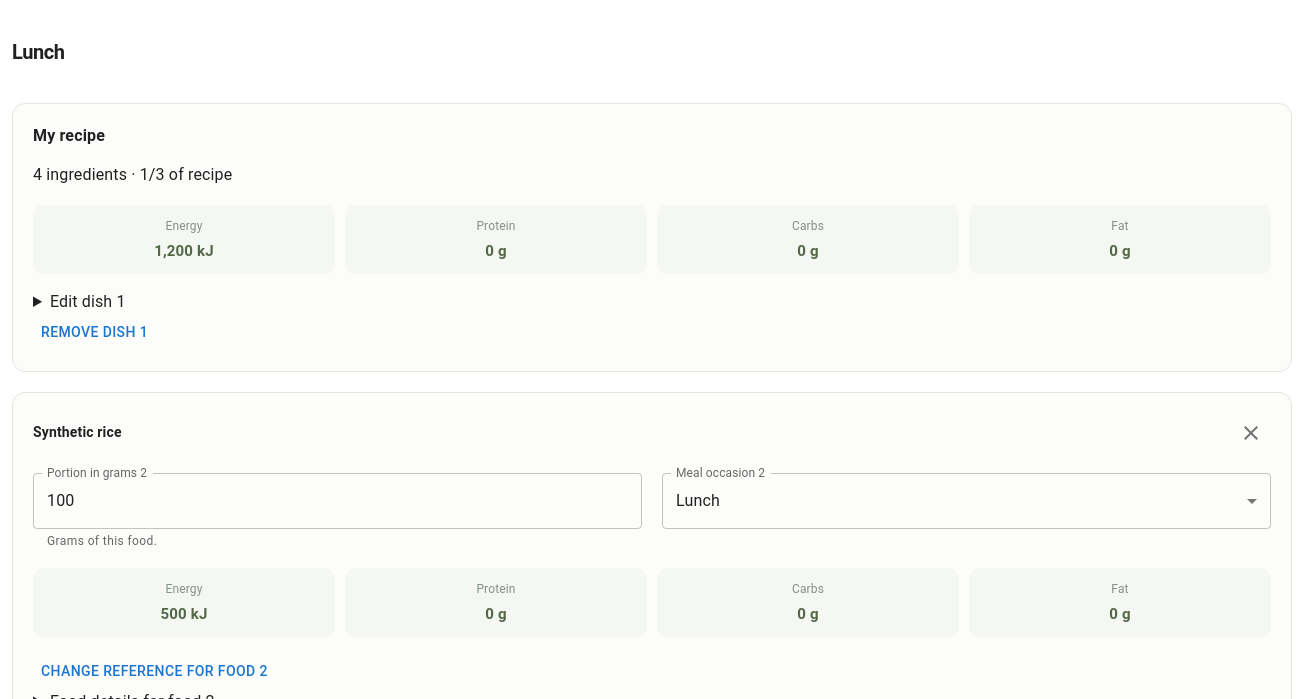
Test case: UX-F08 complete root review › keeps a newer complete preview when an older grams request finishes late
Replace the text in the field labelled "Portion in grams 2" with "200" at {"x": 338, "y": 501}, box [33,473,642,529]
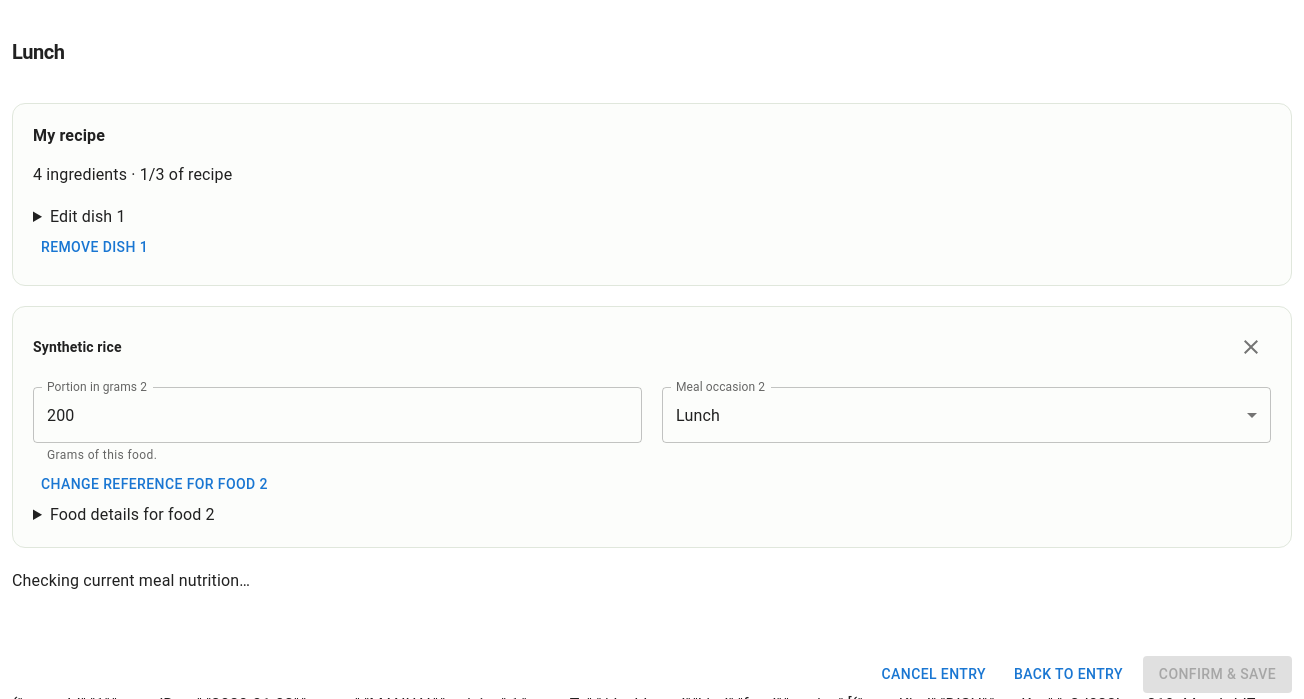
Check: the button "Confirm & save" is disabled, box [1143,656,1292,693]
Replace the text in the field labelled "Portion in grams 2" with "300" at {"x": 338, "y": 415}, box [33,387,642,443]
(page scrolled)
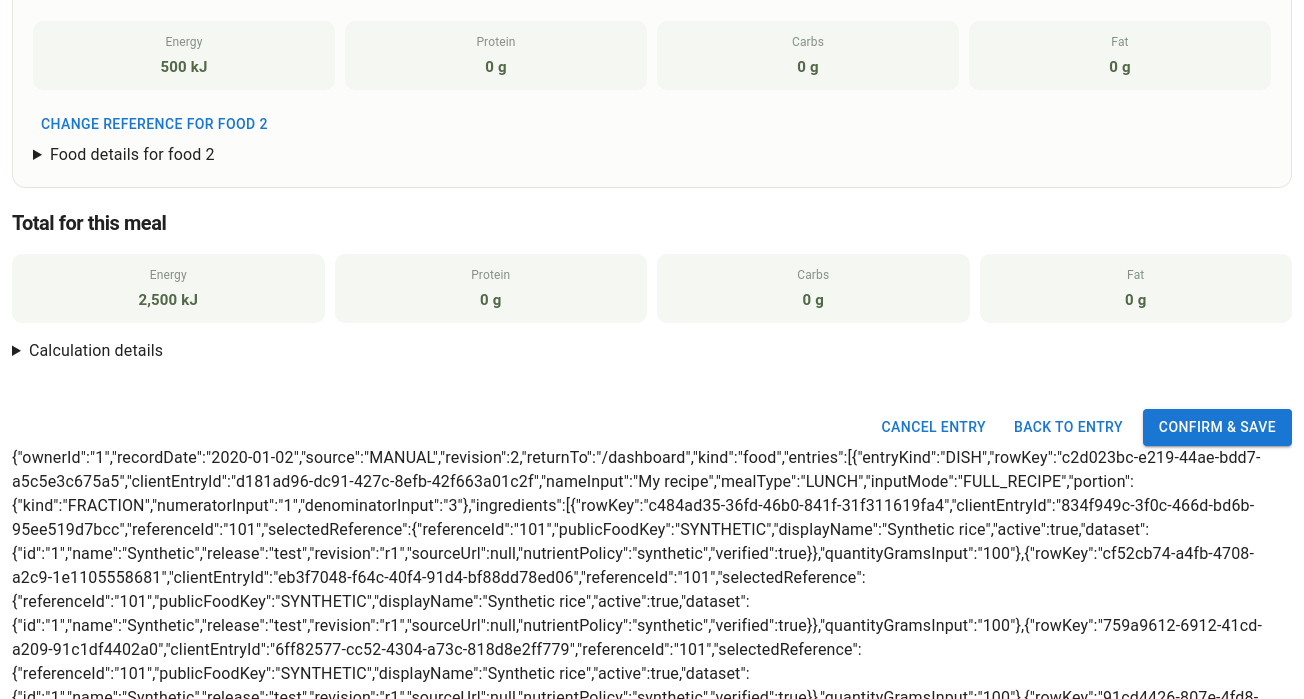
Check: the text "2,500 kJ" is shown, box [138,291,198,309]
